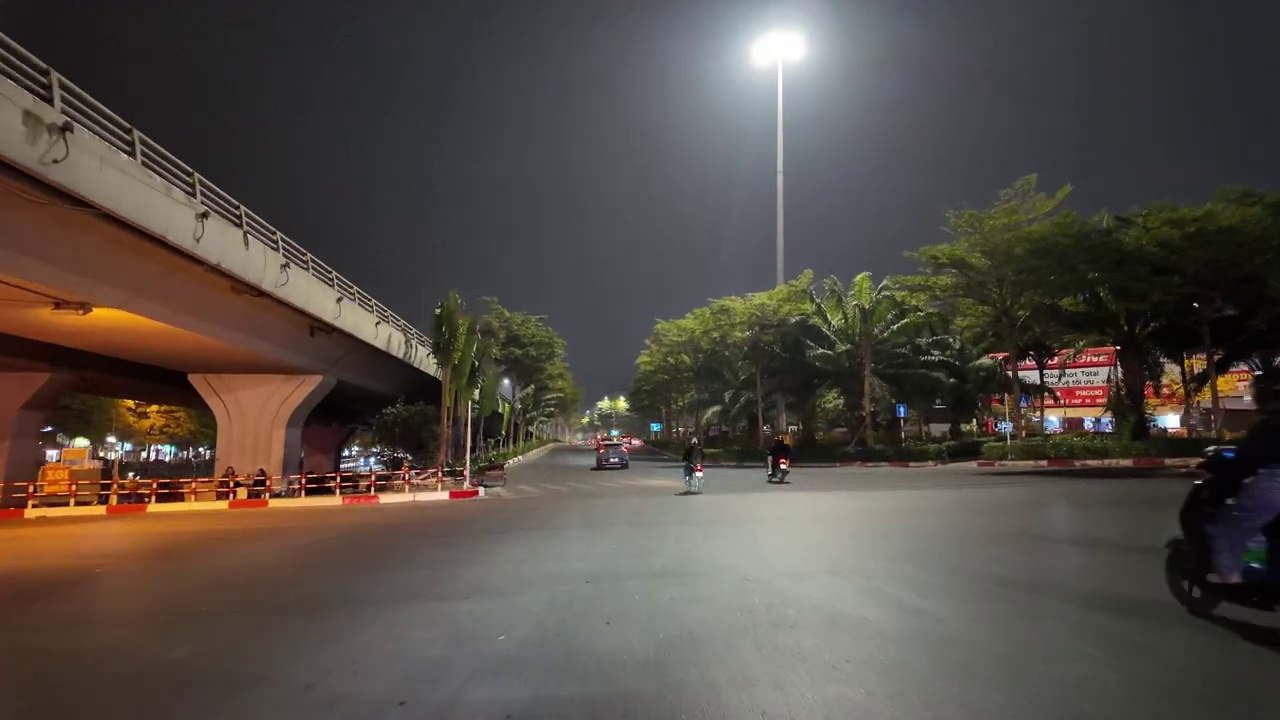acesa: (753, 32, 802, 68)
